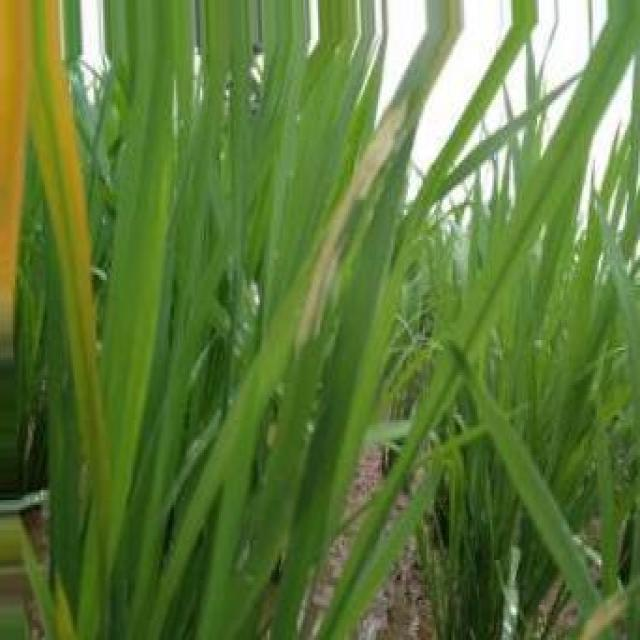Rice Tungro: (30, 0, 110, 510), (296, 99, 406, 348), (0, 0, 31, 347)
